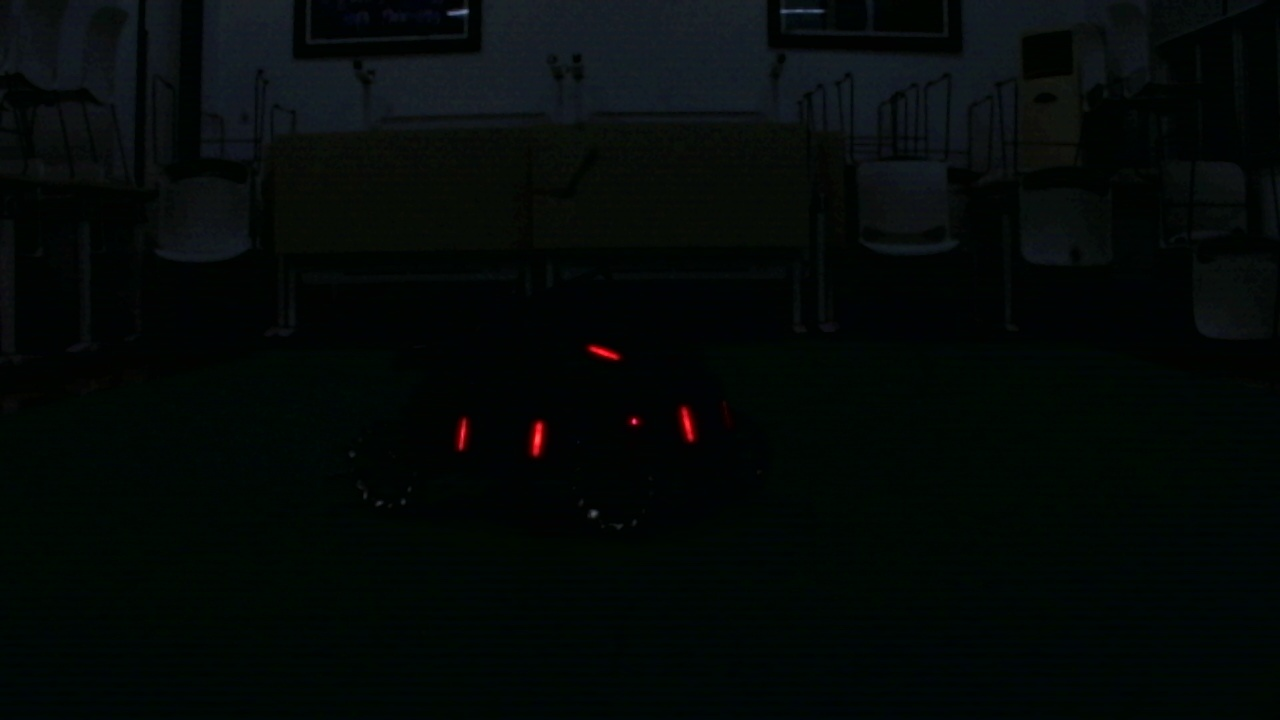lamp: (672, 404, 702, 441), (528, 420, 546, 455), (453, 417, 469, 455)
pair1: (457, 420, 545, 453)
